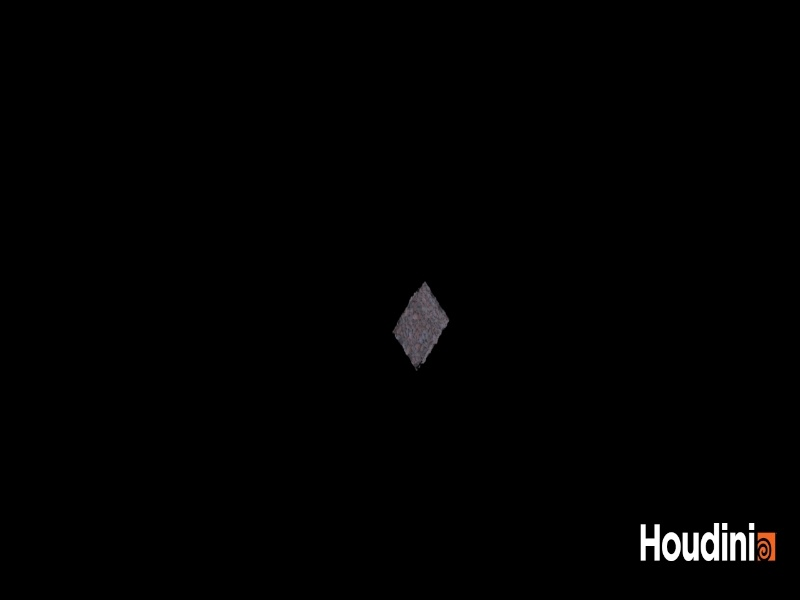waste: (375, 267, 458, 381)
